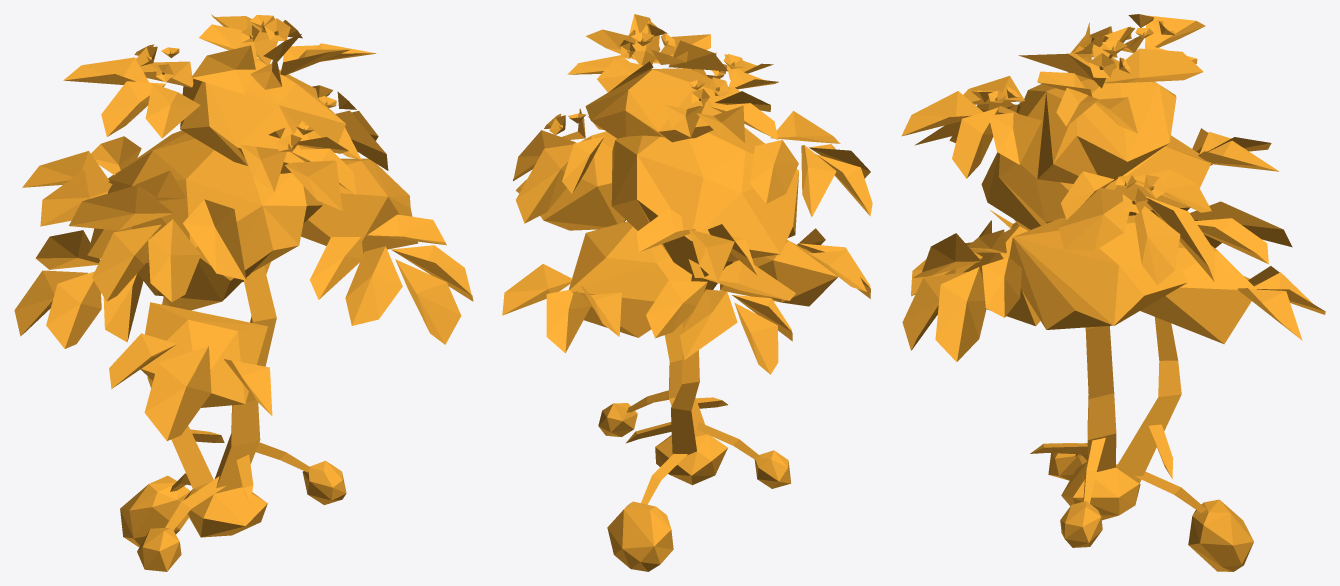
File: SM_Potato_Plant_Flowering_A.fbx
3 views of the same model, side by side, from view 1: azimuth 30°, elevation 25°; view 2: azimuth 150°, elevation 25°; view 3: azimuth 270°, elevation 25° (orthographic). The views are drawn at different scales.
Parts seen in each view (by area): view 1: potato-plant-flowering-a; view 2: potato-plant-flowering-a; view 3: potato-plant-flowering-a.
Boxes of the visible parts, left/top/right/bottom form: potato-plant-flowering-a: left=14, top=14, right=473, bottom=571; potato-plant-flowering-a: left=502, top=14, right=872, bottom=571; potato-plant-flowering-a: left=901, top=14, right=1325, bottom=571.
Bounding box in the file's own units: 0.6009 × 0.8974 × 0.619.
